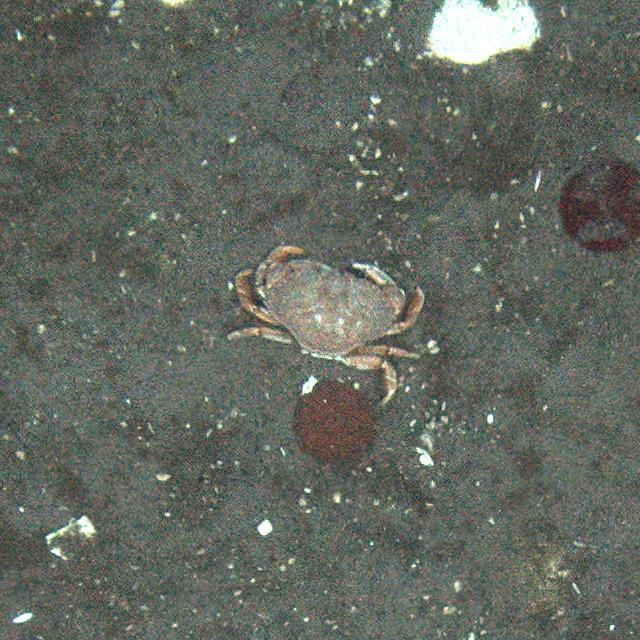crab: (233, 246, 424, 399)
